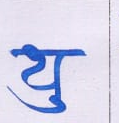u_matra: (9, 90, 71, 115)
